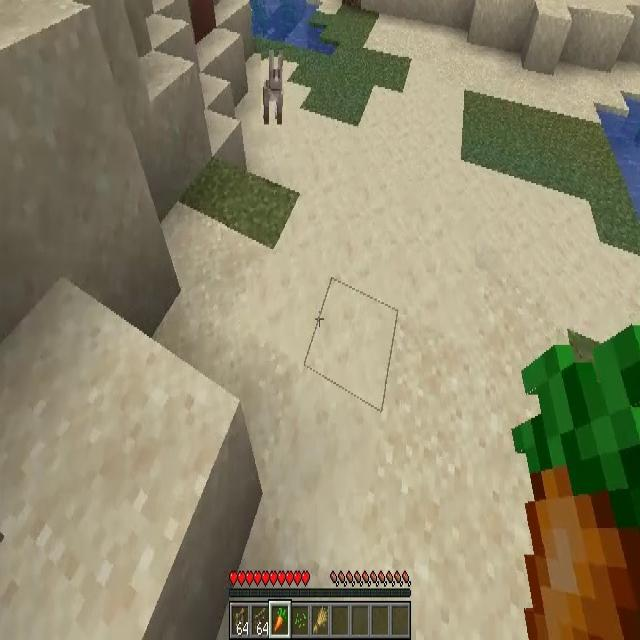rabbit: (262, 48, 284, 125)
